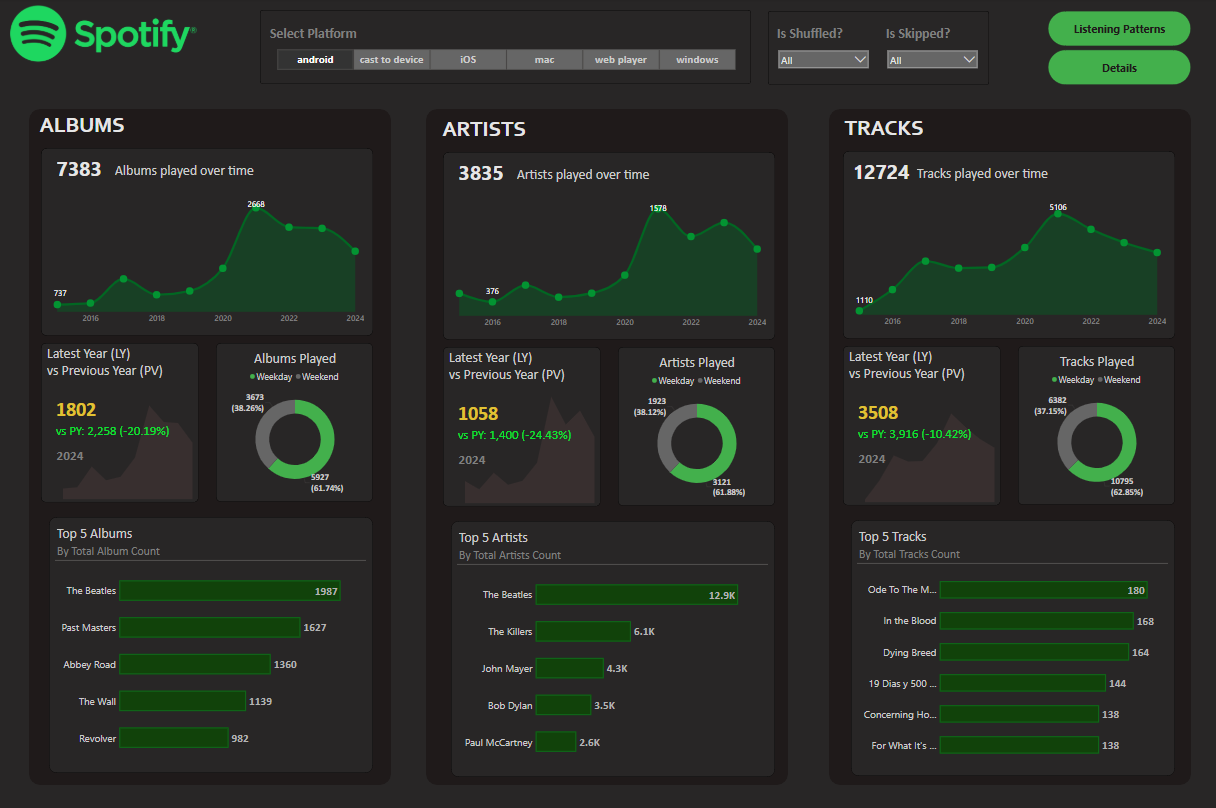

The page's visual inventory and layout, read from the dashboard file:
{"tool":"powerbi","page":{"name":"Overview","canvas":[3300,2200],"ordinal":0},"visuals":[{"type":"shape","box":[2086.2,35.2,598.8,200.5],"z":0},{"type":"shape","box":[709.9,32.5,1330.3,200.5],"z":1000},{"type":"image","box":[0,0,574.4,200.5],"z":2000},{"type":"shape","box":[84,300.7,980.8,1831.5],"z":3000},{"type":"textbox","box":[84,300.7,287.2,100.2],"z":4000},{"type":"shape","box":[116.5,406.4,899.5,509.4],"z":5000},{"type":"card","fields":{"Values":["spotify_history.Total Albums"]},"box":[127.3,417.2,184.2,84],"z":6000},{"type":"textbox","box":[311.6,438.9,476.8,62.3],"z":7000},{"type":"areaChart","fields":{"Y":["spotify_history.Total Albums"],"Category":["Calendar.Year"]},"box":[132.8,536.5,864.3,354.9],"z":8000},{"type":"shape","box":[116.5,934.7,427,432],"z":9000},{"type":"areaChart","fields":{"Y":["spotify_history.Total Albums"],"Category":["Calendar.Year"]},"box":[121.9,1051.2,420,311.6],"z":10000},{"type":"textbox","box":[127.3,934.7,414.5,116.5],"z":11000},{"type":"card","fields":{"Values":["spotify_history.LY Albums"]},"box":[135.5,1067.5,151.7,84],"z":12000},{"type":"card","fields":{"Values":["spotify_history.PY and YOY Albums"]},"box":[138.2,1132.5,344.1,75.9],"z":13000},{"type":"slicer","fields":{"Values":["spotify_history.platform"]},"box":[731.5,132.8,1289.7,67.7],"z":14000},{"type":"shape","box":[590.6,934.7,425.4,430.8],"z":15000},{"type":"card","fields":{"Values":["spotify_history.MaxYear"]},"box":[138.2,1208.4,113.8,59.6],"z":16000},{"type":"donutChart","title":"Albums Played","fields":{"Category":["Calendar.Weekday"],"Y":["spotify_history.Total Albums"]},"box":[606.9,953.7,395.6,398.3],"z":17000},{"type":"shape","box":[138.2,1406.2,877.8,693.6],"z":18000},{"type":"barChart","title":"Top 5 Albums","fields":{"Category":["spotify_history.album_name"],"Y":["CountNonNull(spotify_history.album_name)"]},"box":[154.4,1427.8,842.6,653],"z":19000},{"type":"shape","box":[1159.6,300.7,980.8,1831.5],"z":20000},{"type":"shape","box":[2251.5,300.7,980.8,1831.5],"z":21000},{"type":"textbox","box":[1172.3,310.7,287.2,100.2],"z":22000},{"type":"shape","box":[1204.8,416.4,899.5,509.4],"z":23000},{"type":"card","fields":{"Values":["spotify_history.Total Artists"]},"box":[1215.7,427.2,184.2,84],"z":24000},{"type":"textbox","box":[1399.9,448.9,476.8,62.3],"z":25000},{"type":"areaChart","fields":{"Category":["Calendar.Year"],"Y":["spotify_history.Total Artists"]},"box":[1221.1,546.5,864.3,354.9],"z":26000},{"type":"shape","box":[1204.8,944.7,427,432],"z":27000},{"type":"areaChart","fields":{"Category":["Calendar.Year"],"Y":["spotify_history.Total Artists"]},"box":[1210.2,1061.2,420,311.6],"z":28000},{"type":"textbox","box":[1215.7,944.7,414.5,116.5],"z":29000},{"type":"card","fields":{"Values":["spotify_history.LY Artists"]},"box":[1223.8,1077.5,151.7,84],"z":30000},{"type":"card","fields":{"Values":["spotify_history.PY and YOY Artists"]},"box":[1226.5,1142.5,344.1,75.9],"z":31000},{"type":"shape","box":[1679,944.7,425.4,430.8],"z":32000},{"type":"card","fields":{"Values":["spotify_history.MaxYear"]},"box":[1226.5,1218.4,113.8,59.6],"z":33000},{"type":"donutChart","title":"Artists Played","fields":{"Category":["Calendar.Weekday"],"Y":["spotify_history.Total Artists"]},"box":[1695.2,963.7,395.6,398.3],"z":34000},{"type":"shape","box":[1226.5,1416.2,877.8,693.6],"z":35000},{"type":"barChart","title":"Top 5 Artists","fields":{"Category":["spotify_history.artist_name"],"Y":["CountNonNull(spotify_history.artist_name)"]},"box":[1242.8,1437.8,842.6,653],"z":36000},{"type":"textbox","box":[2256.1,308,287.2,100.2],"z":37000},{"type":"shape","box":[2288.6,413.7,899.5,509.4],"z":38000},{"type":"card","fields":{"Values":["spotify_history.Total Tracks"]},"box":[2299.4,424.5,184.2,84],"z":39000},{"type":"textbox","box":[2483.6,446.2,476.8,62.3],"z":40000},{"type":"areaChart","fields":{"Category":["Calendar.Year"],"Y":["spotify_history.Total Tracks"]},"box":[2304.8,543.7,864.3,354.9],"z":41000},{"type":"shape","box":[2288.6,942,427,432],"z":42000},{"type":"areaChart","fields":{"Category":["Calendar.Year"],"Y":["spotify_history.Total Tracks"]},"box":[2294,1058.5,420,311.6],"z":43000},{"type":"textbox","box":[2299.4,942,414.5,116.5],"z":44000},{"type":"card","fields":{"Values":["spotify_history.LY Tracks"]},"box":[2307.5,1074.8,151.7,84],"z":45000},{"type":"card","fields":{"Values":["spotify_history.PY and YOY Tracks"]},"box":[2310.2,1139.8,344.1,75.9],"z":46000},{"type":"shape","box":[2762.7,942,425.4,430.8],"z":47000},{"type":"card","fields":{"Values":["spotify_history.MaxYear"]},"box":[2310.2,1215.7,113.8,59.6],"z":48000},{"type":"donutChart","title":"Tracks Played","fields":{"Category":["Calendar.Weekday"],"Y":["spotify_history.Total Tracks"]},"box":[2779,961,395.6,398.3],"z":49000},{"type":"shape","box":[2310.2,1413.4,877.8,693.6],"z":50000},{"type":"barChart","title":"Top 5 Tracks","fields":{"Category":["spotify_history.track_name"],"Y":["CountNonNull(spotify_history.track_name)"]},"box":[2326.5,1435.1,842.6,653],"z":51000},{"type":"textbox","box":[731.5,67.7,287.2,65],"z":52000},{"type":"slicer","fields":{"Values":["spotify_history.shuffle"]},"box":[2105.2,132.8,262.8,75],"z":53000},{"type":"slicer","fields":{"Values":["spotify_history.skipped"]},"box":[2400.5,132.8,262.8,75],"z":54000},{"type":"textbox","box":[2105.2,67.7,227.6,65],"z":55000},{"type":"textbox","box":[2400.5,67.7,227.6,65],"z":56000},{"type":"pageNavigator","box":[2844.8,35.2,387.4,200.5],"z":57000}]}

Visuals, with their boxes in screenshot pixels (x1, y1, x2, y2), scaled from the page's 3300x2200 canvas onto the 1216x808 screenshot:
shape: (left=769, top=13, right=989, bottom=87)
shape: (left=262, top=12, right=752, bottom=86)
image: (left=0, top=0, right=212, bottom=74)
shape: (left=31, top=110, right=392, bottom=783)
textbox: (left=31, top=110, right=137, bottom=147)
shape: (left=43, top=149, right=374, bottom=336)
card - spotify_history.Total Albums: (left=47, top=153, right=115, bottom=184)
textbox: (left=115, top=161, right=291, bottom=184)
areaChart - spotify_history.Total Albums x Calendar.Year: (left=49, top=197, right=367, bottom=327)
shape: (left=43, top=343, right=200, bottom=502)
areaChart - spotify_history.Total Albums x Calendar.Year: (left=45, top=386, right=200, bottom=501)
textbox: (left=47, top=343, right=200, bottom=386)
card - spotify_history.LY Albums: (left=50, top=392, right=106, bottom=423)
card - spotify_history.PY and YOY Albums: (left=51, top=416, right=178, bottom=444)
slicer - spotify_history.platform: (left=270, top=49, right=745, bottom=74)
shape: (left=218, top=343, right=374, bottom=502)
card - spotify_history.MaxYear: (left=51, top=444, right=93, bottom=466)
"Albums Played" donutChart: (left=224, top=350, right=369, bottom=497)
shape: (left=51, top=516, right=374, bottom=771)
"Top 5 Albums" barChart: (left=57, top=524, right=367, bottom=764)
shape: (left=427, top=110, right=789, bottom=783)
shape: (left=830, top=110, right=1191, bottom=783)
textbox: (left=432, top=114, right=538, bottom=151)
shape: (left=444, top=153, right=775, bottom=340)
card - spotify_history.Total Artists: (left=448, top=157, right=516, bottom=188)
textbox: (left=516, top=165, right=692, bottom=188)
areaChart - Calendar.Year x spotify_history.Total Artists: (left=450, top=201, right=768, bottom=331)
shape: (left=444, top=347, right=601, bottom=506)
areaChart - Calendar.Year x spotify_history.Total Artists: (left=446, top=390, right=601, bottom=504)
textbox: (left=448, top=347, right=601, bottom=390)
card - spotify_history.LY Artists: (left=451, top=396, right=507, bottom=427)
card - spotify_history.PY and YOY Artists: (left=452, top=420, right=579, bottom=447)
shape: (left=619, top=347, right=775, bottom=505)
card - spotify_history.MaxYear: (left=452, top=447, right=494, bottom=469)
"Artists Played" donutChart: (left=625, top=354, right=770, bottom=500)
shape: (left=452, top=520, right=775, bottom=775)
"Top 5 Artists" barChart: (left=458, top=528, right=768, bottom=768)
textbox: (left=831, top=113, right=937, bottom=150)
shape: (left=843, top=152, right=1175, bottom=339)
card - spotify_history.Total Tracks: (left=847, top=156, right=915, bottom=187)
textbox: (left=915, top=164, right=1091, bottom=187)
areaChart - Calendar.Year x spotify_history.Total Tracks: (left=849, top=200, right=1168, bottom=330)
shape: (left=843, top=346, right=1001, bottom=505)
areaChart - Calendar.Year x spotify_history.Total Tracks: (left=845, top=389, right=1000, bottom=503)
textbox: (left=847, top=346, right=1000, bottom=389)
card - spotify_history.LY Tracks: (left=850, top=395, right=906, bottom=426)
card - spotify_history.PY and YOY Tracks: (left=851, top=419, right=978, bottom=446)
shape: (left=1018, top=346, right=1175, bottom=504)
card - spotify_history.MaxYear: (left=851, top=446, right=893, bottom=468)
"Tracks Played" donutChart: (left=1024, top=353, right=1170, bottom=499)
shape: (left=851, top=519, right=1175, bottom=774)
"Top 5 Tracks" barChart: (left=857, top=527, right=1168, bottom=767)
textbox: (left=270, top=25, right=375, bottom=49)
slicer - spotify_history.shuffle: (left=776, top=49, right=873, bottom=76)
slicer - spotify_history.skipped: (left=885, top=49, right=981, bottom=76)
textbox: (left=776, top=25, right=860, bottom=49)
textbox: (left=885, top=25, right=968, bottom=49)
pageNavigator: (left=1048, top=13, right=1191, bottom=87)
